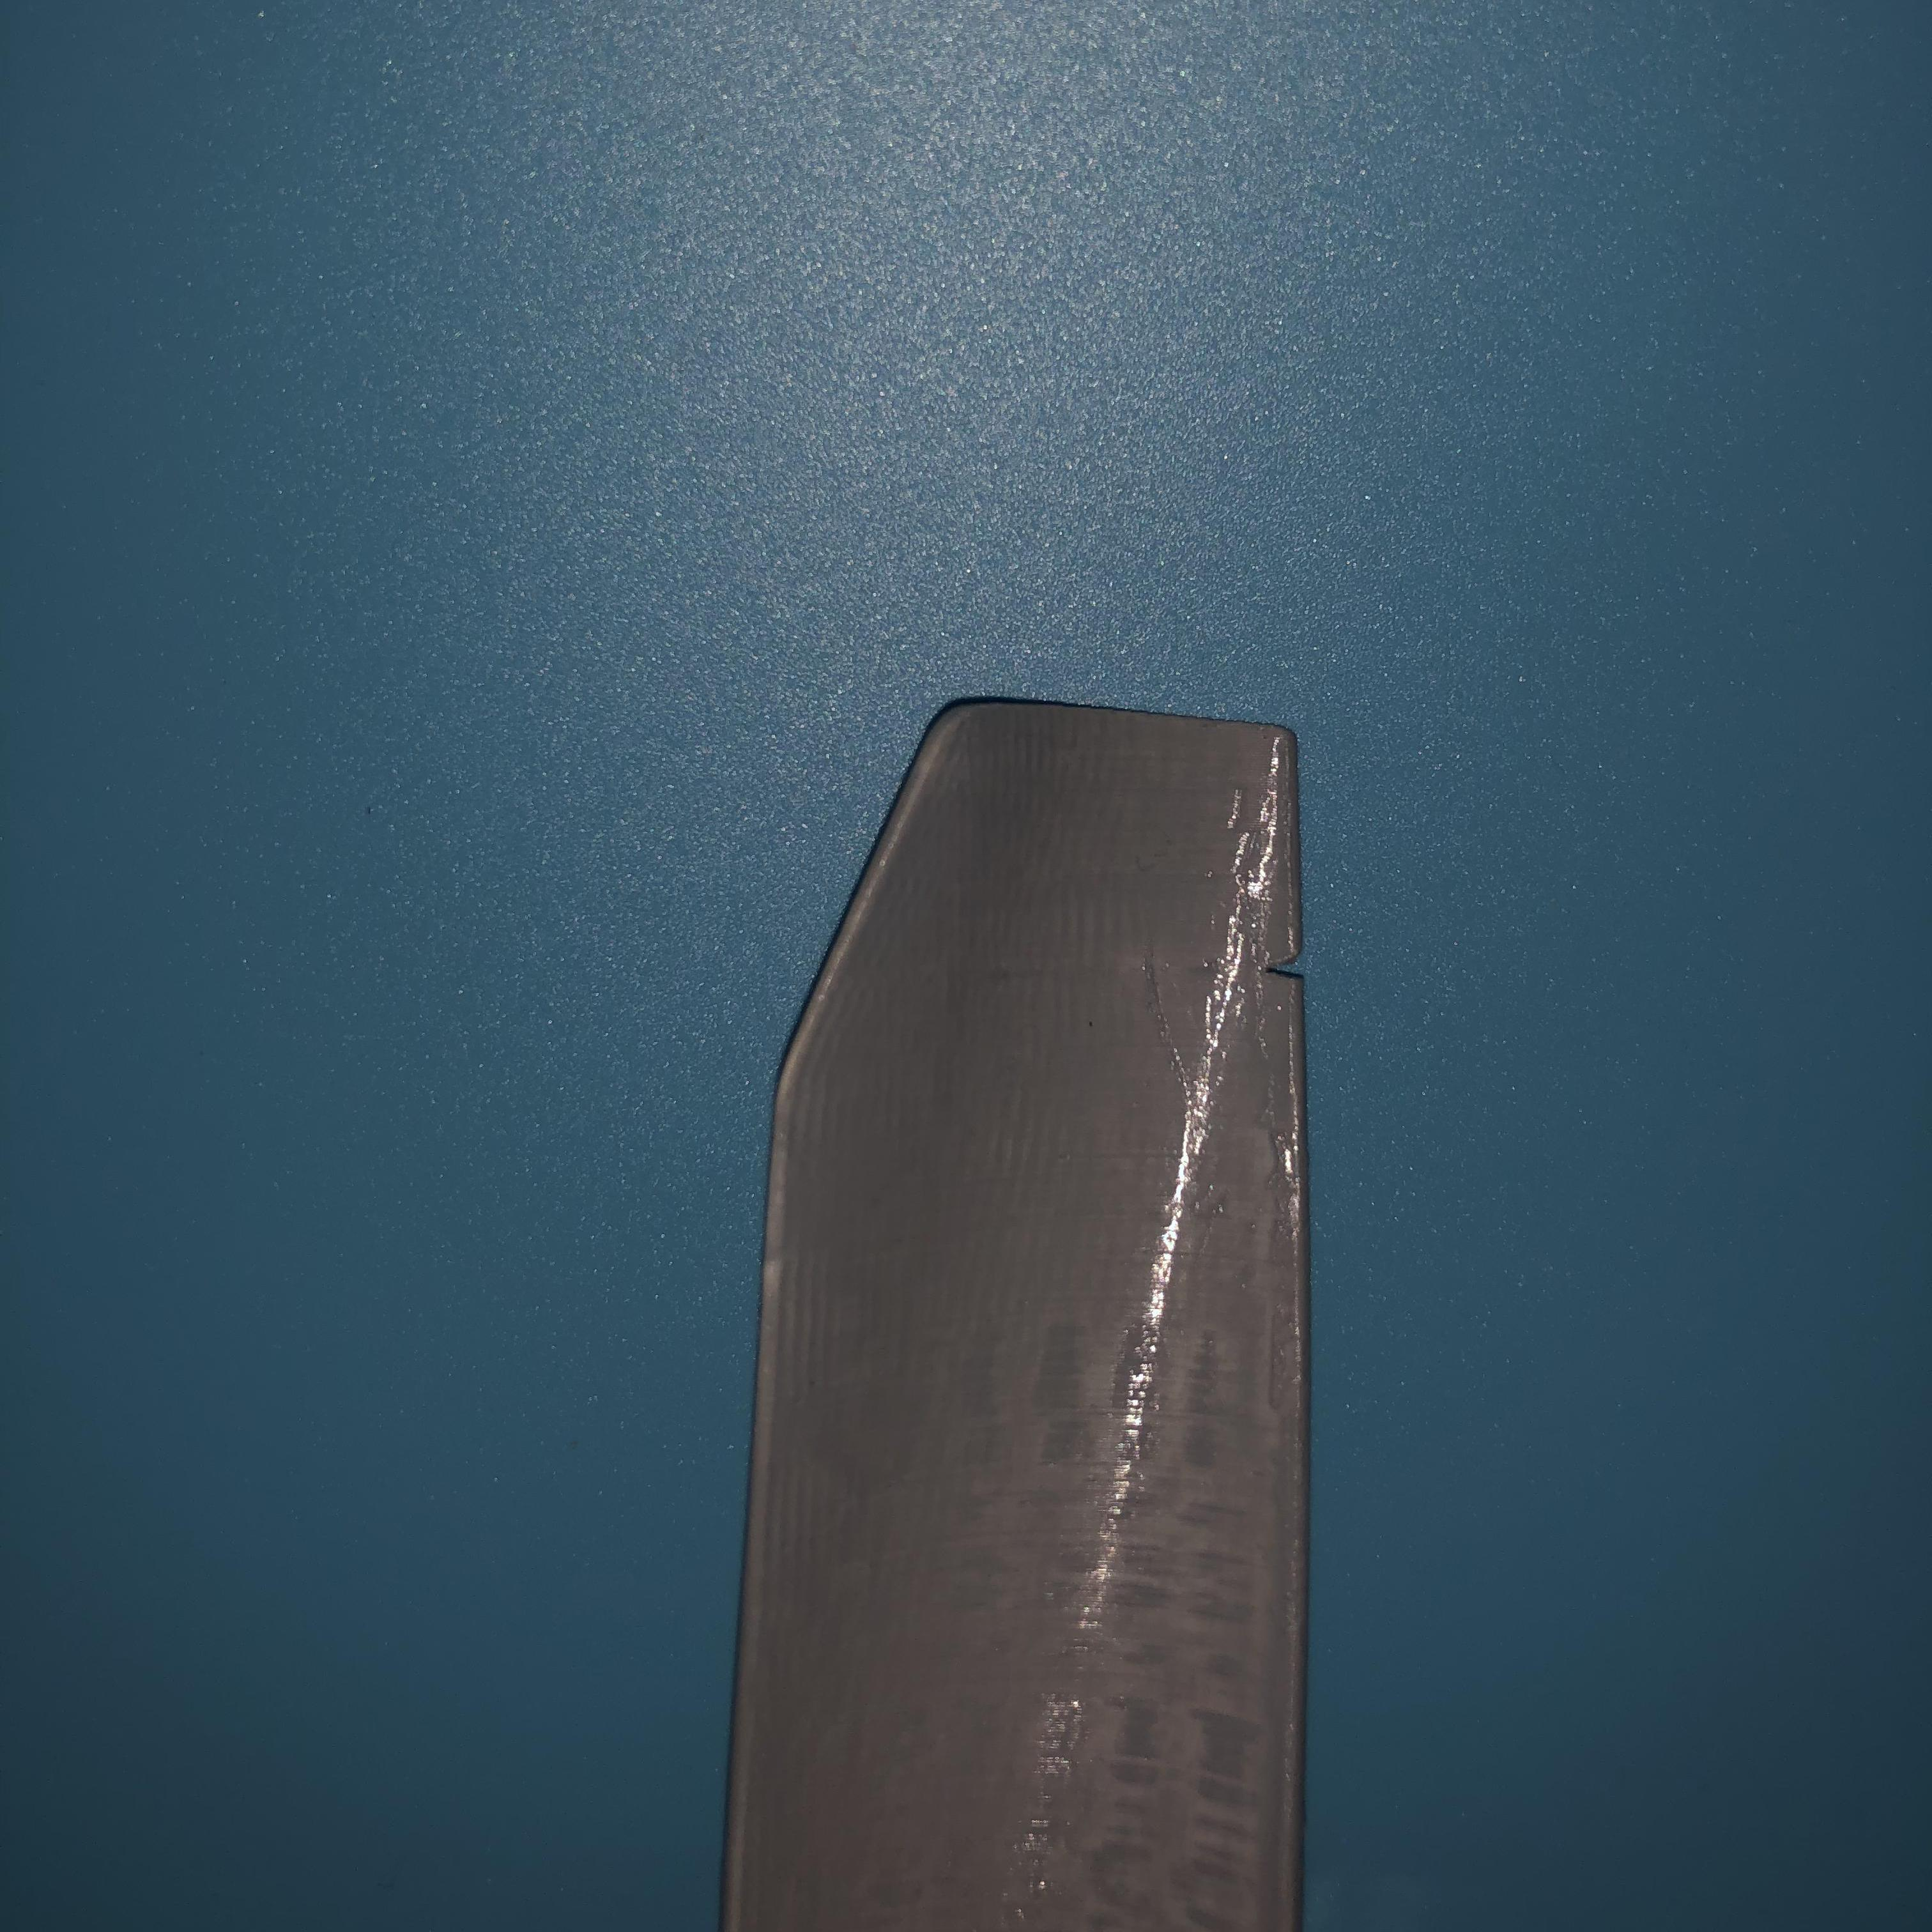groove: (1251, 948, 1304, 989)
